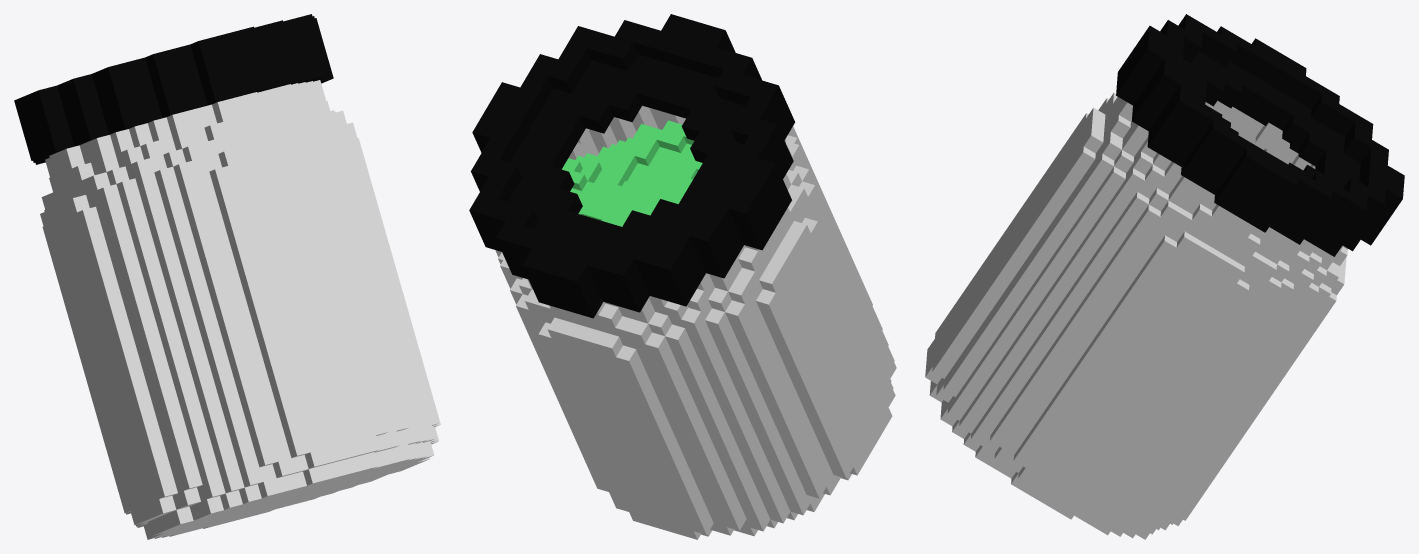
Rendered from PowerUP .fbx.
The picture shows the model from 3 angles, left to right: view 1: azimuth 30°, elevation 25°; view 2: azimuth 150°, elevation 25°; view 3: azimuth 270°, elevation 25°; orthographic projection. The views are drawn at different scales.
Parts seen in each view (by area): view 1: Blocked Bottle, Blocked Lid; view 2: Blocked Bottle, Blocked Lid, Blocked Potion; view 3: Blocked Bottle, Blocked Lid.
Part boxes in pixels (<box>): Blocked Bottle: <box>40,80,440,539</box>; Blocked Lid: <box>14,14,333,164</box>; Blocked Bottle: <box>495,105,896,539</box>; Blocked Lid: <box>469,14,795,318</box>; Blocked Potion: <box>562,120,702,226</box>; Blocked Bottle: <box>925,92,1347,539</box>; Blocked Lid: <box>1116,14,1404,256</box>.
Size of the model in its own units: 237 by 402 by 369.
